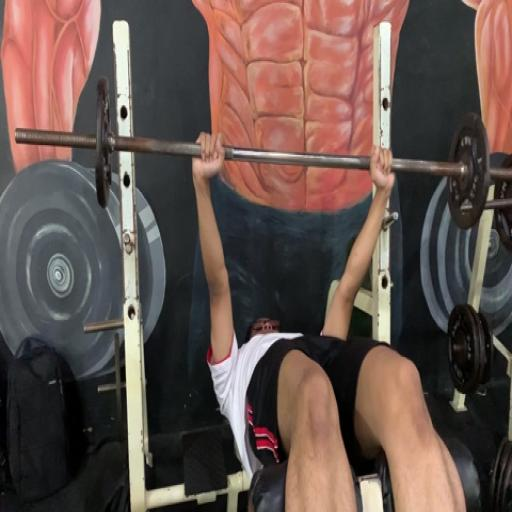exercise: (189, 130, 471, 510)
